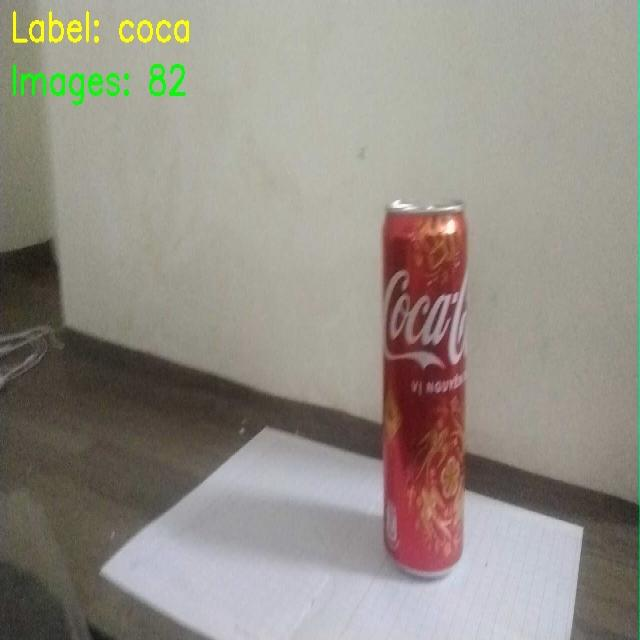Coca: (378, 211, 484, 582)
